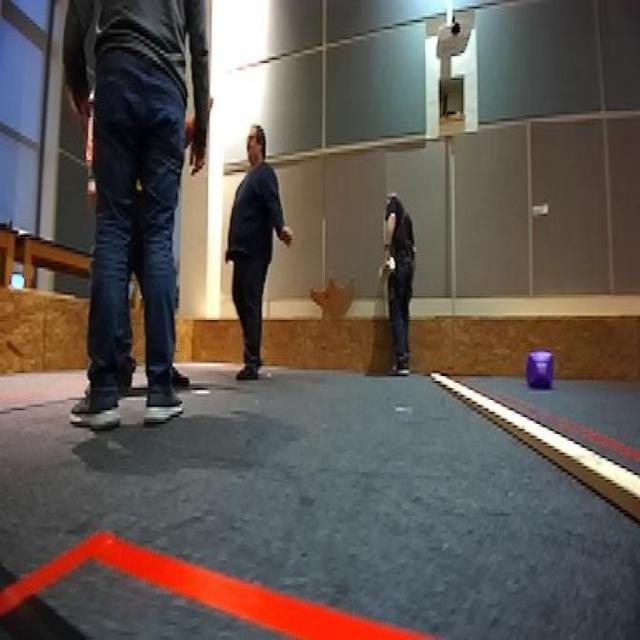frc_cube: (527, 347, 556, 395)
